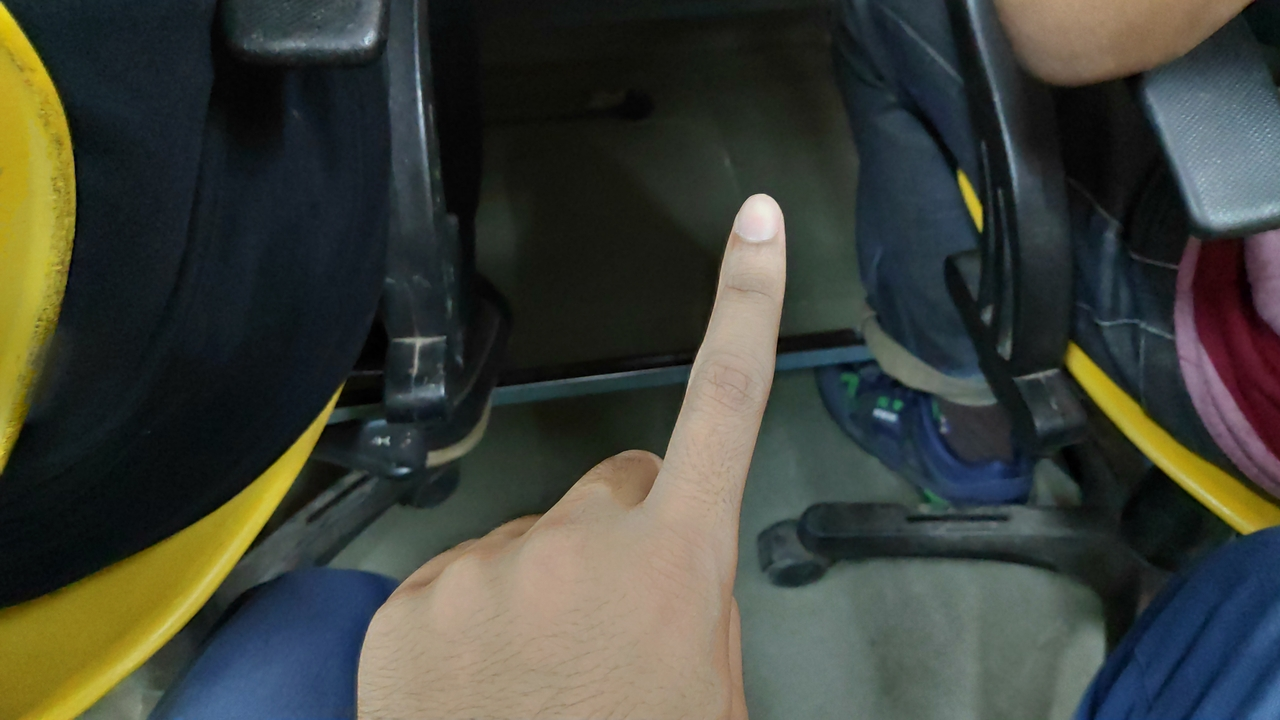fingertip: (726, 186, 790, 254)
